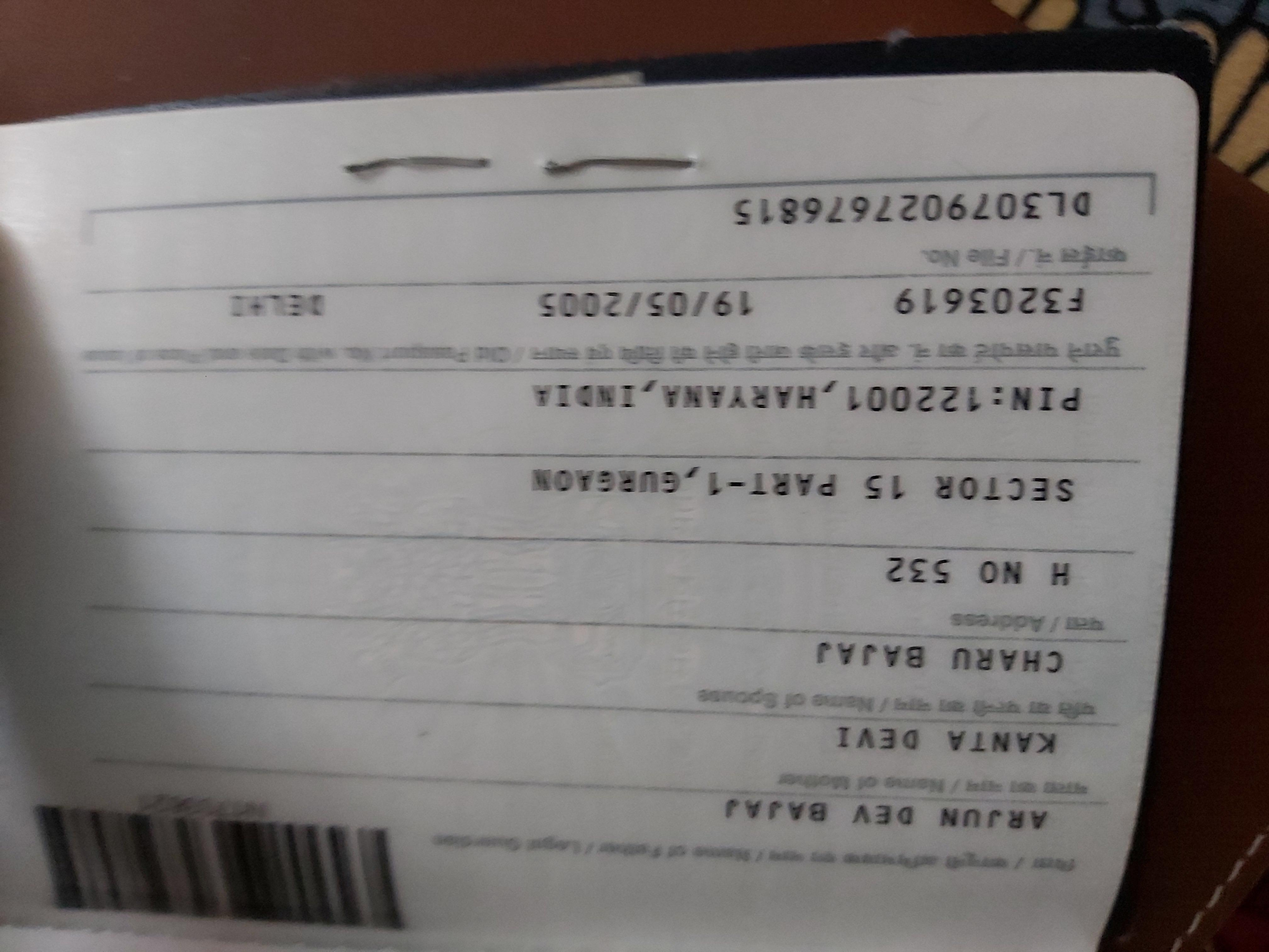File_no: (936, 529, 1053, 845)
address: (470, 366, 768, 843)
father_name: (134, 517, 226, 795)
mother_name: (243, 609, 330, 800)
old_passport_details: (810, 153, 919, 837)
passport_no: (166, 97, 229, 209)
spouse_name: (357, 590, 449, 829)
